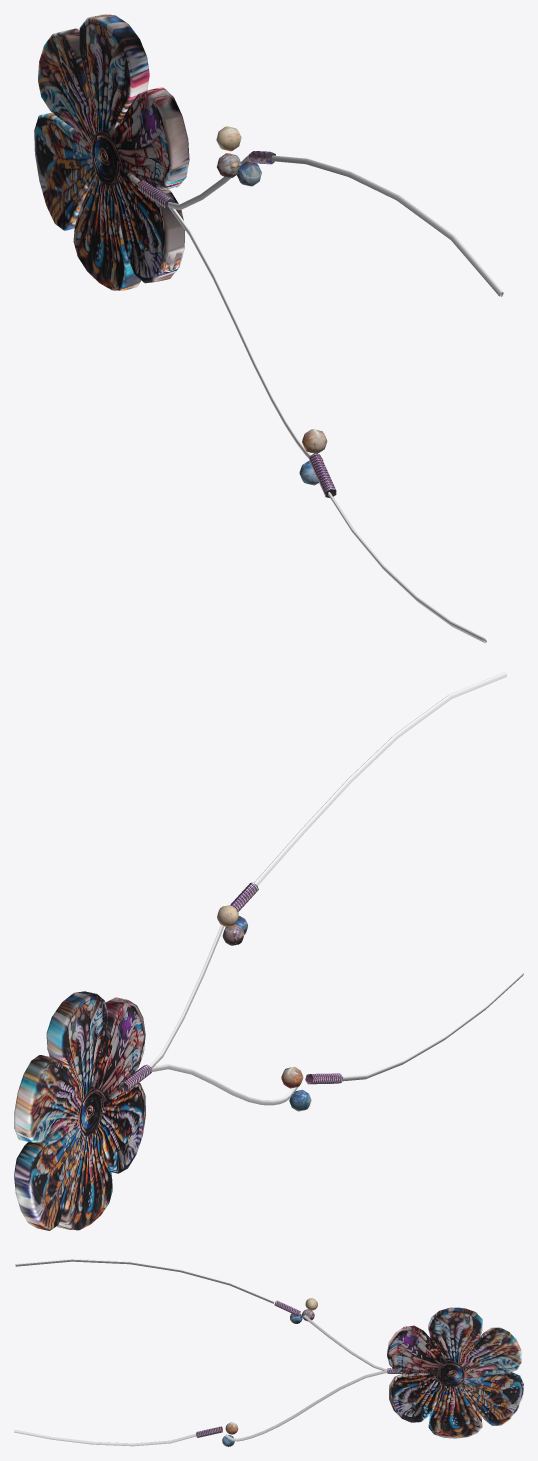
File: Durga4.obj
3 views of the same model, one above another, from view 1: azimuth 30°, elevation 25°; view 2: azimuth 150°, elevation 25°; view 3: azimuth 270°, elevation 25° (orthographic). The views are drawn at different scales.
Visible parts, largest first — view 1: polymsh1, polymsh20, polymsh, polymsh21; view 2: polymsh1, polymsh20, polymsh, polymsh21; view 3: polymsh1, polymsh20, polymsh, polymsh21.
Part boxes in pixels (<box>): polymsh1: <box>34,14,189,290</box>; polymsh20: <box>168,155,503,643</box>; polymsh: <box>216,126,327,485</box>; polymsh21: <box>138,151,336,497</box>; polymsh1: <box>14,991,145,1230</box>; polymsh20: <box>149,672,523,1105</box>; polymsh: <box>217,905,311,1111</box>; polymsh21: <box>122,882,342,1092</box>; polymsh1: <box>387,1307,523,1438</box>; polymsh20: <box>14,1259,387,1446</box>; polymsh: <box>222,1298,317,1446</box>; polymsh21: <box>196,1300,402,1437</box>.
Size of the model in its own units: 2.35 by 10.26 by 25.05.
Materials: 8 (7 with a texture image).
